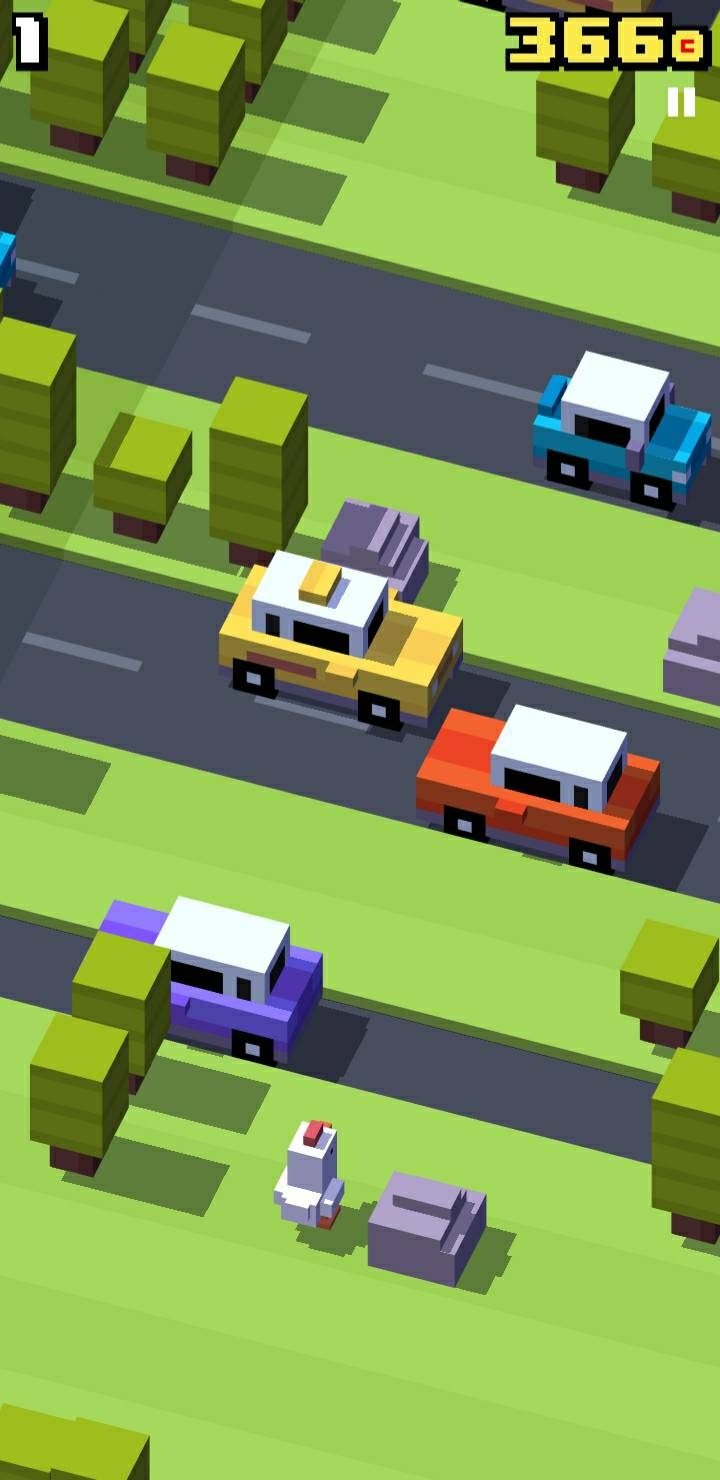car: (216, 545, 467, 741), (414, 694, 661, 879), (92, 892, 321, 1079), (532, 338, 720, 516), (1, 227, 21, 309)
duck: (270, 1112, 350, 1249)
rock: (359, 1165, 490, 1289), (323, 499, 432, 603), (661, 581, 720, 705)
tree: (207, 370, 309, 556), (14, 1, 132, 149), (141, 32, 252, 189), (74, 932, 172, 1101), (30, 1010, 125, 1179), (1, 310, 78, 518), (529, 49, 638, 192), (92, 405, 194, 554), (649, 1052, 720, 1249), (621, 919, 720, 1049), (652, 89, 720, 225), (54, 1405, 149, 1480), (1, 1407, 65, 1480)
